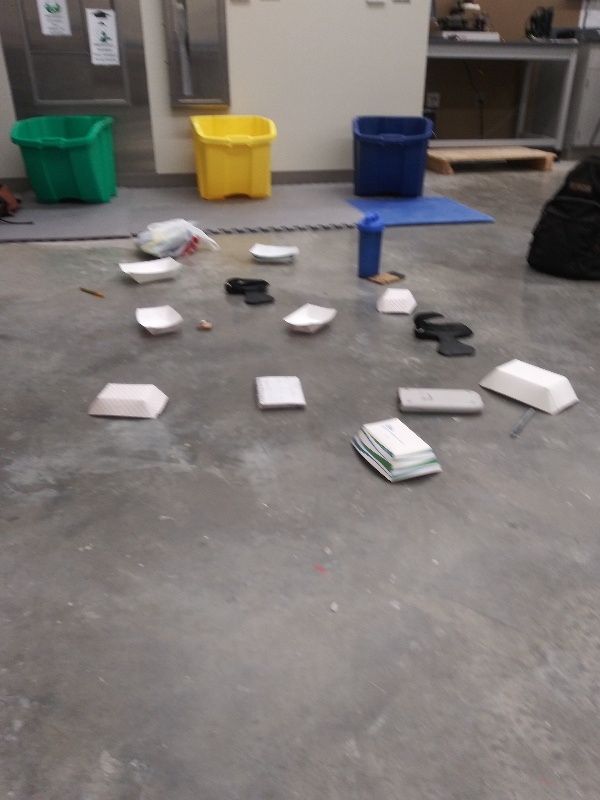plate: (346, 413, 447, 485), (476, 355, 585, 417), (86, 378, 172, 429), (276, 300, 345, 339), (116, 254, 184, 287), (133, 301, 184, 343), (246, 239, 303, 268), (372, 287, 419, 317)
